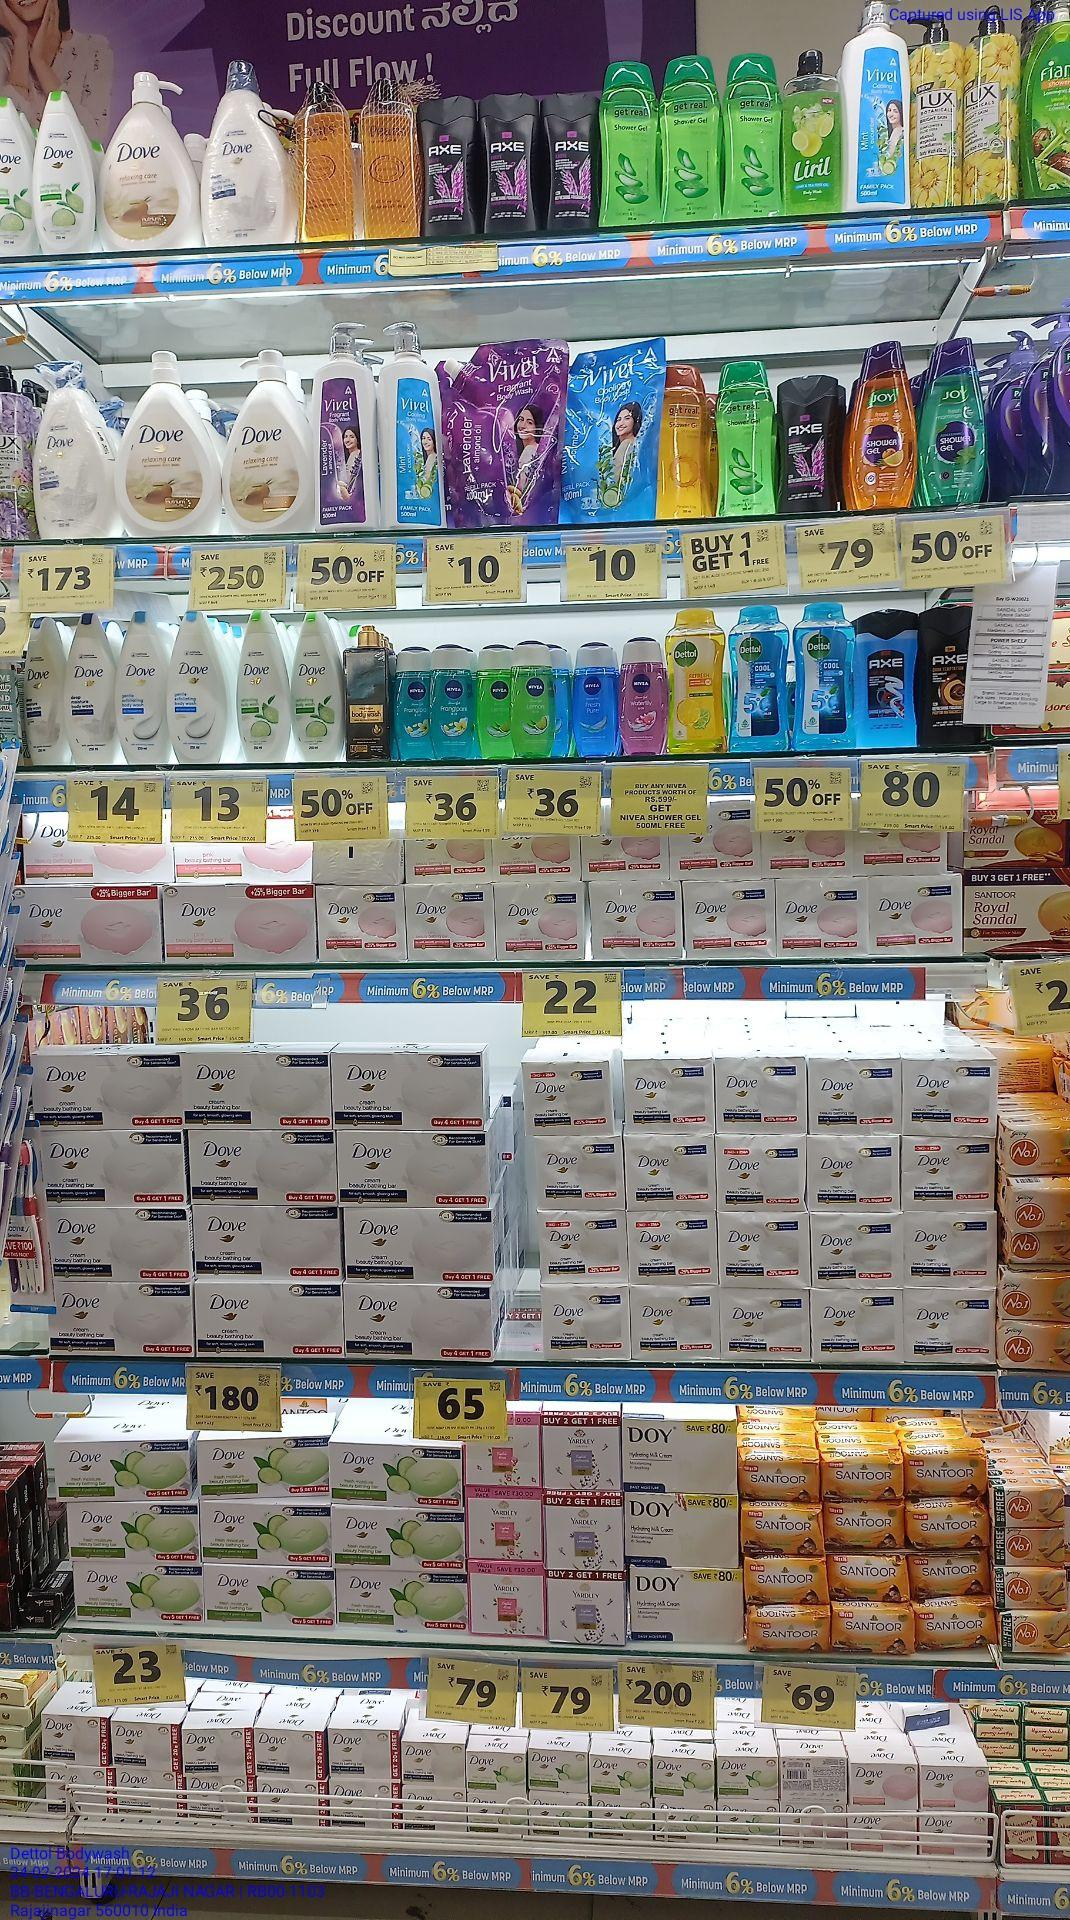Dettol_Bodywash_Cool: (729, 604, 791, 752), (795, 594, 853, 752)
Dettol_Bodywash_Refresh: (665, 609, 725, 755)
Dove_Deep_Moisture_Body_Wash_250ML: (71, 611, 119, 766), (26, 621, 69, 771)
Dove_Gentle_Exfoliating_Body_Wash_250ML: (175, 611, 227, 767), (121, 606, 170, 763)
Dove_Refreshing_Body_Wash_250ML: (29, 76, 92, 252), (235, 614, 293, 762), (294, 614, 345, 763)
Get_Real_Shower_Gel_Moisturising_Glycerin_300ML: (665, 362, 706, 519)
Joy_Shower_Gel_Mandarin_and_Lemongrass_250ML: (849, 340, 918, 509)
Joy_Shower_Gel_Mint_and_Eucalyptus_250ML: (922, 340, 986, 503)
Liril_Lime_and_Tea_Tree_Oil_Body_Wash_250ML: (783, 49, 841, 215)
